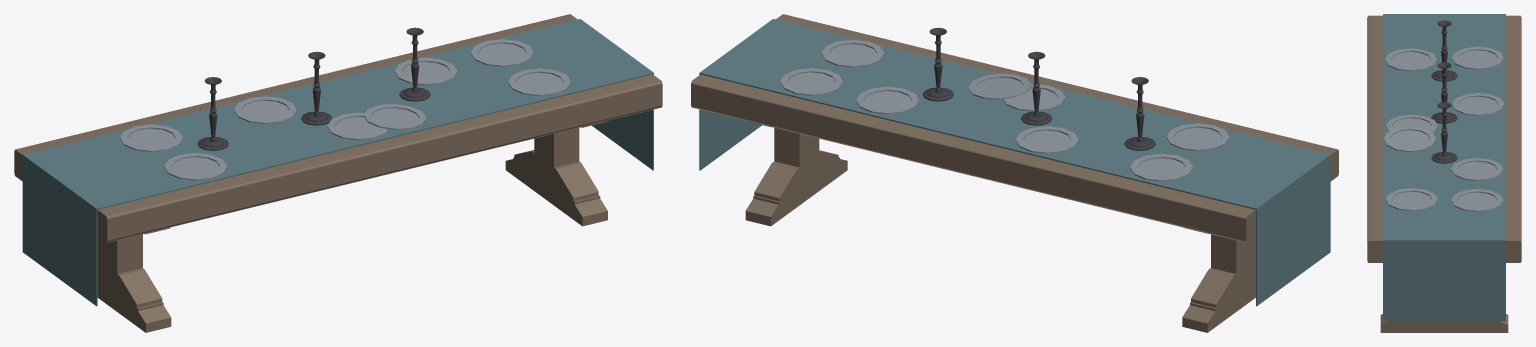
Rendered from banquetTable01.fbx.
3 renders of one model, left to right at view 1: azimuth 30°, elevation 25°; view 2: azimuth 150°, elevation 25°; view 3: azimuth 270°, elevation 25°, orthographic. The views are drawn at different scales.
Parts seen in each view (by area): view 1: cloth, table, dinnerPlates, candelabras; view 2: cloth, table, dinnerPlates, candelabras; view 3: cloth, table, dinnerPlates, candelabras.
Part boxes in pixels (x1,y1,x2,y2): cloth: [22, 19, 653, 306]; table: [14, 14, 662, 332]; dinnerPlates: [120, 39, 571, 180]; candelabras: [197, 27, 430, 150]; cloth: [699, 19, 1330, 306]; table: [691, 14, 1338, 332]; dinnerPlates: [780, 39, 1229, 181]; candelabras: [922, 27, 1155, 150]; cloth: [1383, 14, 1505, 321]; table: [1367, 15, 1521, 332]; dinnerPlates: [1383, 46, 1504, 211]; candelabras: [1431, 20, 1457, 163].
Size of the model in its own units: 461 by 157 by 133.
